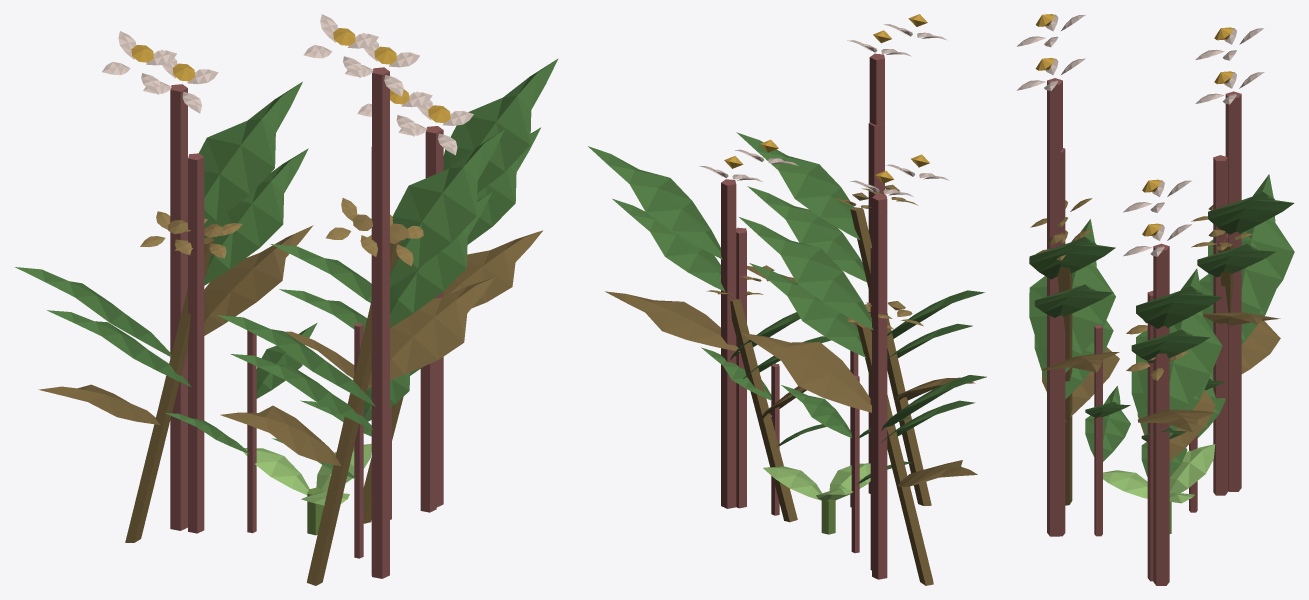
The model's file is autumn_buckwheat.glb.
The picture shows the model from 3 angles, left to right: view 1: azimuth 30°, elevation 25°; view 2: azimuth 150°, elevation 25°; view 3: azimuth 270°, elevation 25°; orthographic projection. The views are drawn at different scales.
Parts seen in each view (by area): view 1: stage3, dead, stage2, stage1, stage0; view 2: stage3, dead, stage2, stage1, stage0; view 3: stage3, stage2, dead, stage1, stage0.
Part boxes in pixels (x1=…): stage3: x1=15, y1=14, x2=558, y2=578; dead: x1=38, y1=198, x2=542, y2=585; stage2: x1=47, y1=127, x2=540, y2=575; stage1: x1=165, y1=322, x2=422, y2=558; stage0: x1=243, y1=443, x2=371, y2=535; stage3: x1=588, y1=14, x2=986, y2=579; dead: x1=605, y1=184, x2=977, y2=585; stage2: x1=612, y1=122, x2=975, y2=570; stage1: x1=701, y1=322, x2=912, y2=553; stage0: x1=763, y1=463, x2=870, y2=534; stage3: x1=1016, y1=14, x2=1294, y2=585; stage2: x1=1034, y1=148, x2=1275, y2=581; dead: x1=1030, y1=198, x2=1280, y2=505; stage1: x1=1085, y1=325, x2=1225, y2=536; stage0: x1=1103, y1=444, x2=1215, y2=533.
Size of the model in its own units: 0.7327 by 0.7756 by 0.391.
